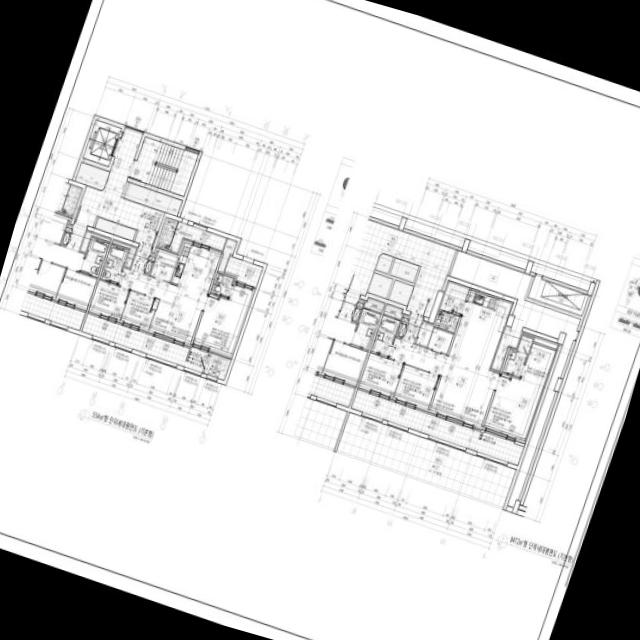background: (0, 0, 640, 640)
space_balconi: (351, 389, 523, 465), (81, 314, 208, 372), (157, 218, 226, 253), (225, 256, 262, 287)
space_bedroom: (193, 285, 252, 355), (483, 373, 543, 441), (358, 353, 403, 397), (393, 365, 438, 409), (89, 280, 129, 319), (121, 291, 154, 329)
space_dressroom: (520, 343, 555, 387)
space_elevator_hall: (74, 120, 164, 248), (344, 219, 455, 317)
space_front: (396, 314, 422, 342), (130, 246, 155, 274)
space_kitchen: (448, 290, 511, 370), (170, 243, 220, 296)
space_living_room: (389, 338, 499, 427), (118, 268, 206, 344)
space_other: (449, 251, 580, 507), (527, 277, 588, 315), (123, 182, 182, 216), (434, 282, 468, 332), (74, 162, 109, 190), (95, 217, 135, 241), (150, 251, 177, 281), (427, 328, 453, 354), (390, 258, 418, 282), (217, 239, 237, 272), (367, 273, 392, 298), (388, 280, 413, 305), (416, 322, 433, 347), (375, 254, 393, 273), (383, 305, 402, 319), (533, 338, 557, 349), (151, 298, 159, 310)
space_outdoor_room: (203, 353, 230, 380)
space_staircase: (131, 137, 197, 196)
space_toilet: (502, 335, 533, 377), (370, 315, 399, 357), (100, 245, 128, 284), (210, 273, 234, 298)
